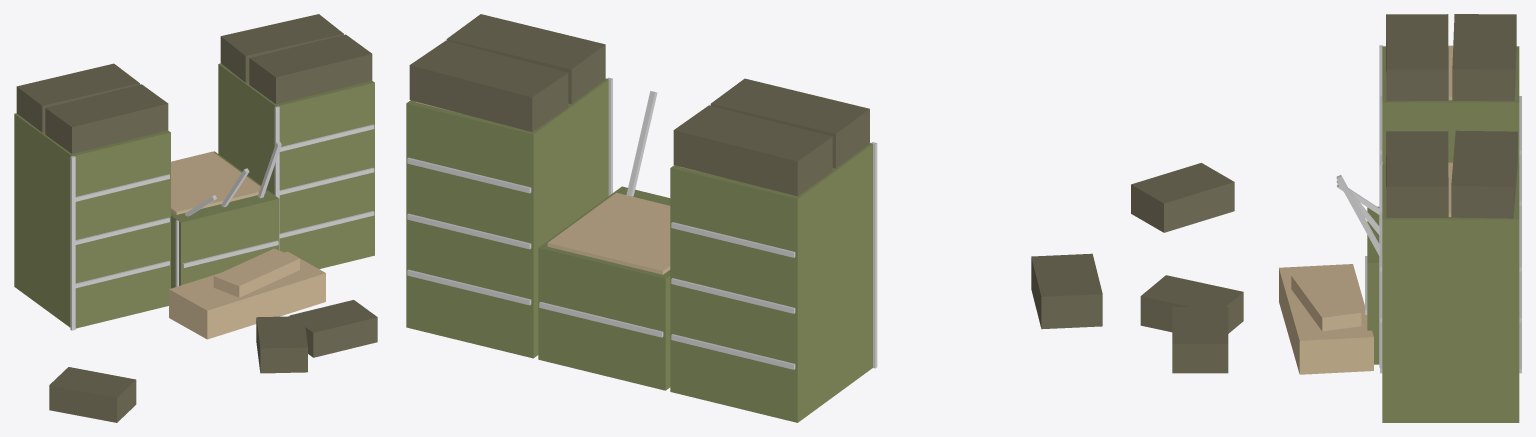
The model's file is SM_HescoCorto3_v3_RemateSacos_e1_Danado_LOD0.fbx.
3 views of the same model, side by side, from view 1: azimuth 30°, elevation 25°; view 2: azimuth 150°, elevation 25°; view 3: azimuth 270°, elevation 25° (orthographic). The views are drawn at different scales.
Visible parts, largest first — view 1: SM_hesco_piezas_v93_LOD0; view 2: SM_hesco_piezas_v93_LOD0; view 3: SM_hesco_piezas_v93_LOD0.
Part boxes in pixels (x1=…): SM_hesco_piezas_v93_LOD0: x1=14, y1=14, x2=377, y2=422; SM_hesco_piezas_v93_LOD0: x1=406, y1=14, x2=1102, y2=422; SM_hesco_piezas_v93_LOD0: x1=1131, y1=14, x2=1521, y2=422.
Size of the model in its own units: 4.39 by 2.09 by 3.14.
